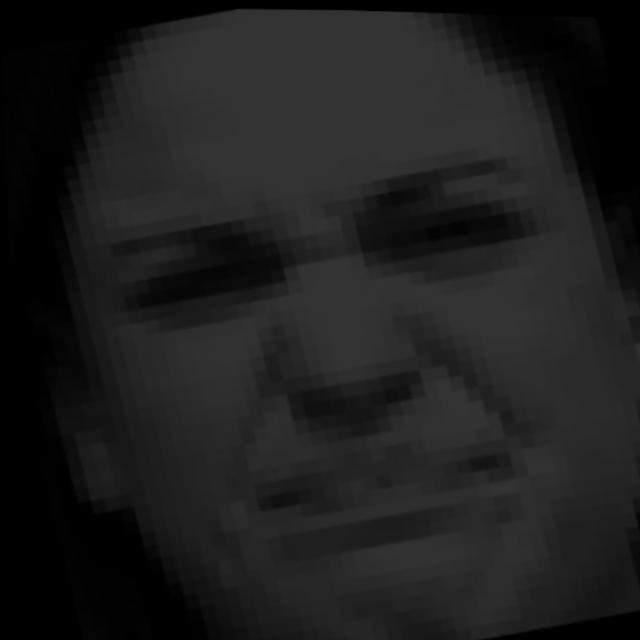Disgust: (57, 97, 556, 640)
